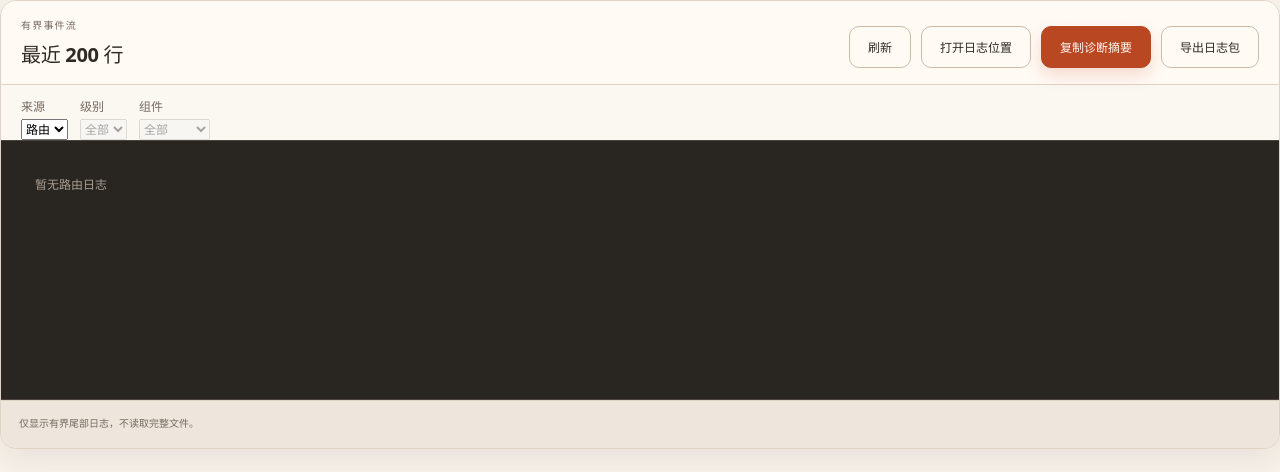
Test: LogsPage › opens the trusted log location through the typed API
expect the text "暂无路由日志" is shown: met, box x1=35 y1=178 x2=107 y2=192
Click the button "打开日志位置" at x=976, y=47, box x1=921 y1=26 x2=1031 y2=68
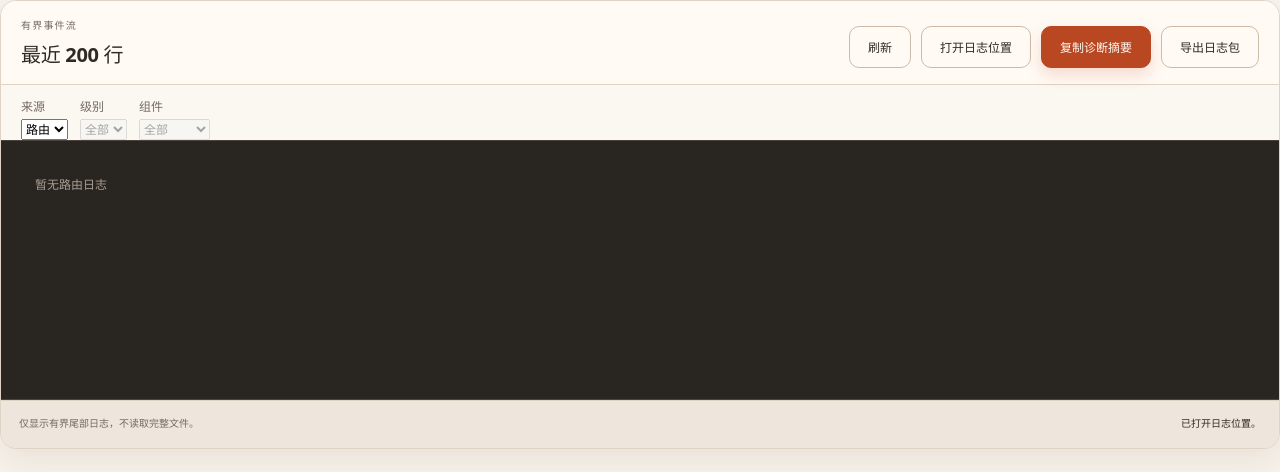
expect the text "已打开日志位置。" is shown: met, box x1=1181 y1=415 x2=1261 y2=434
